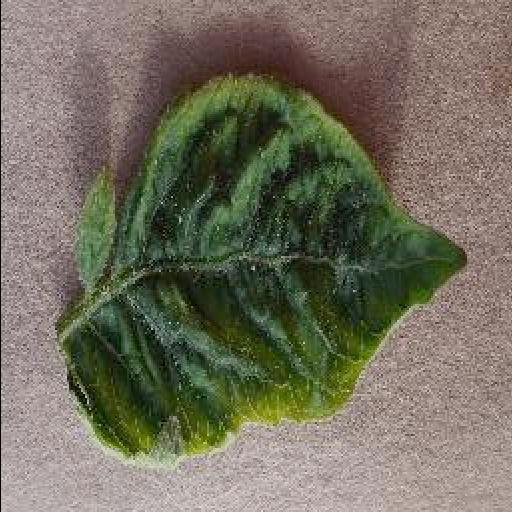disease_tomato: (58, 68, 468, 466)
